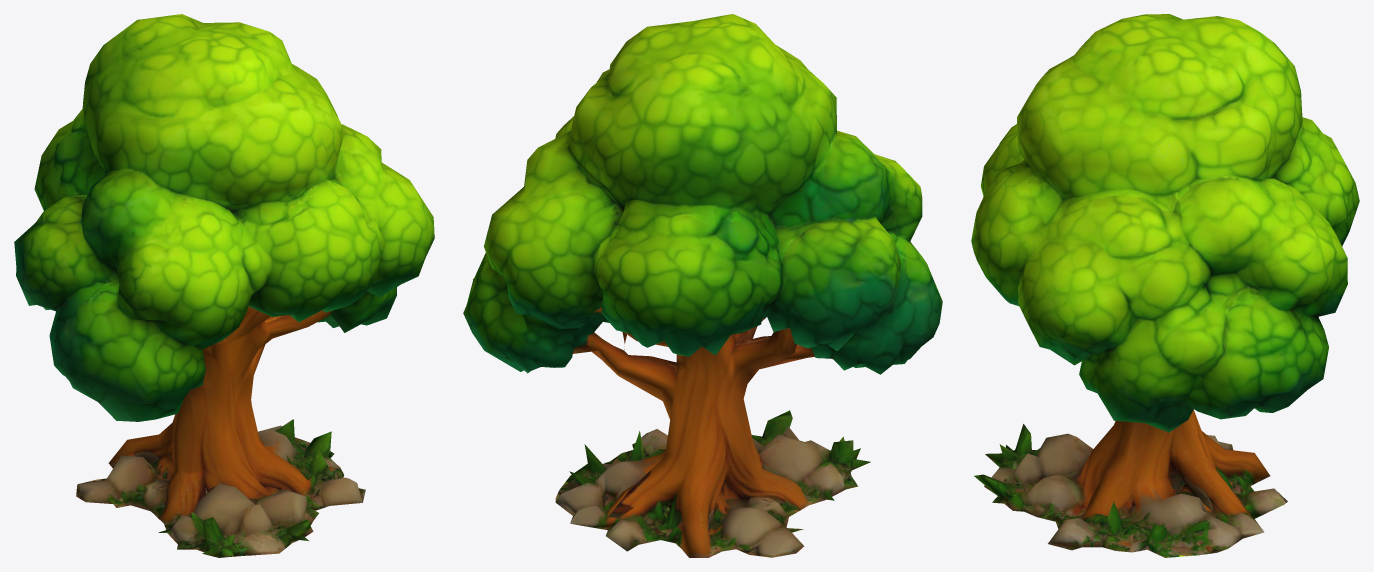
Rendered from Tree2.glb.
3 views of the same model, side by side, from view 1: azimuth 30°, elevation 25°; view 2: azimuth 150°, elevation 25°; view 3: azimuth 270°, elevation 25° (orthographic). The views are drawn at different scales.
Parts seen in each view (by area): view 1: Mesh1.0; view 2: Mesh1.0; view 3: Mesh1.0.
Boxes of the visible parts, left/top/right/bottom form: Mesh1.0: left=14, top=14, right=434, bottom=557; Mesh1.0: left=463, top=14, right=942, bottom=557; Mesh1.0: left=971, top=14, right=1359, bottom=557.
Size of the model in its own units: 1.61 by 1.91 by 1.44.
1 material, 1 textured.
